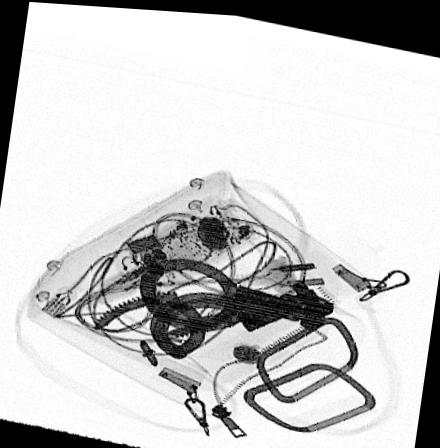HandCuffs: (139, 254, 340, 360)
